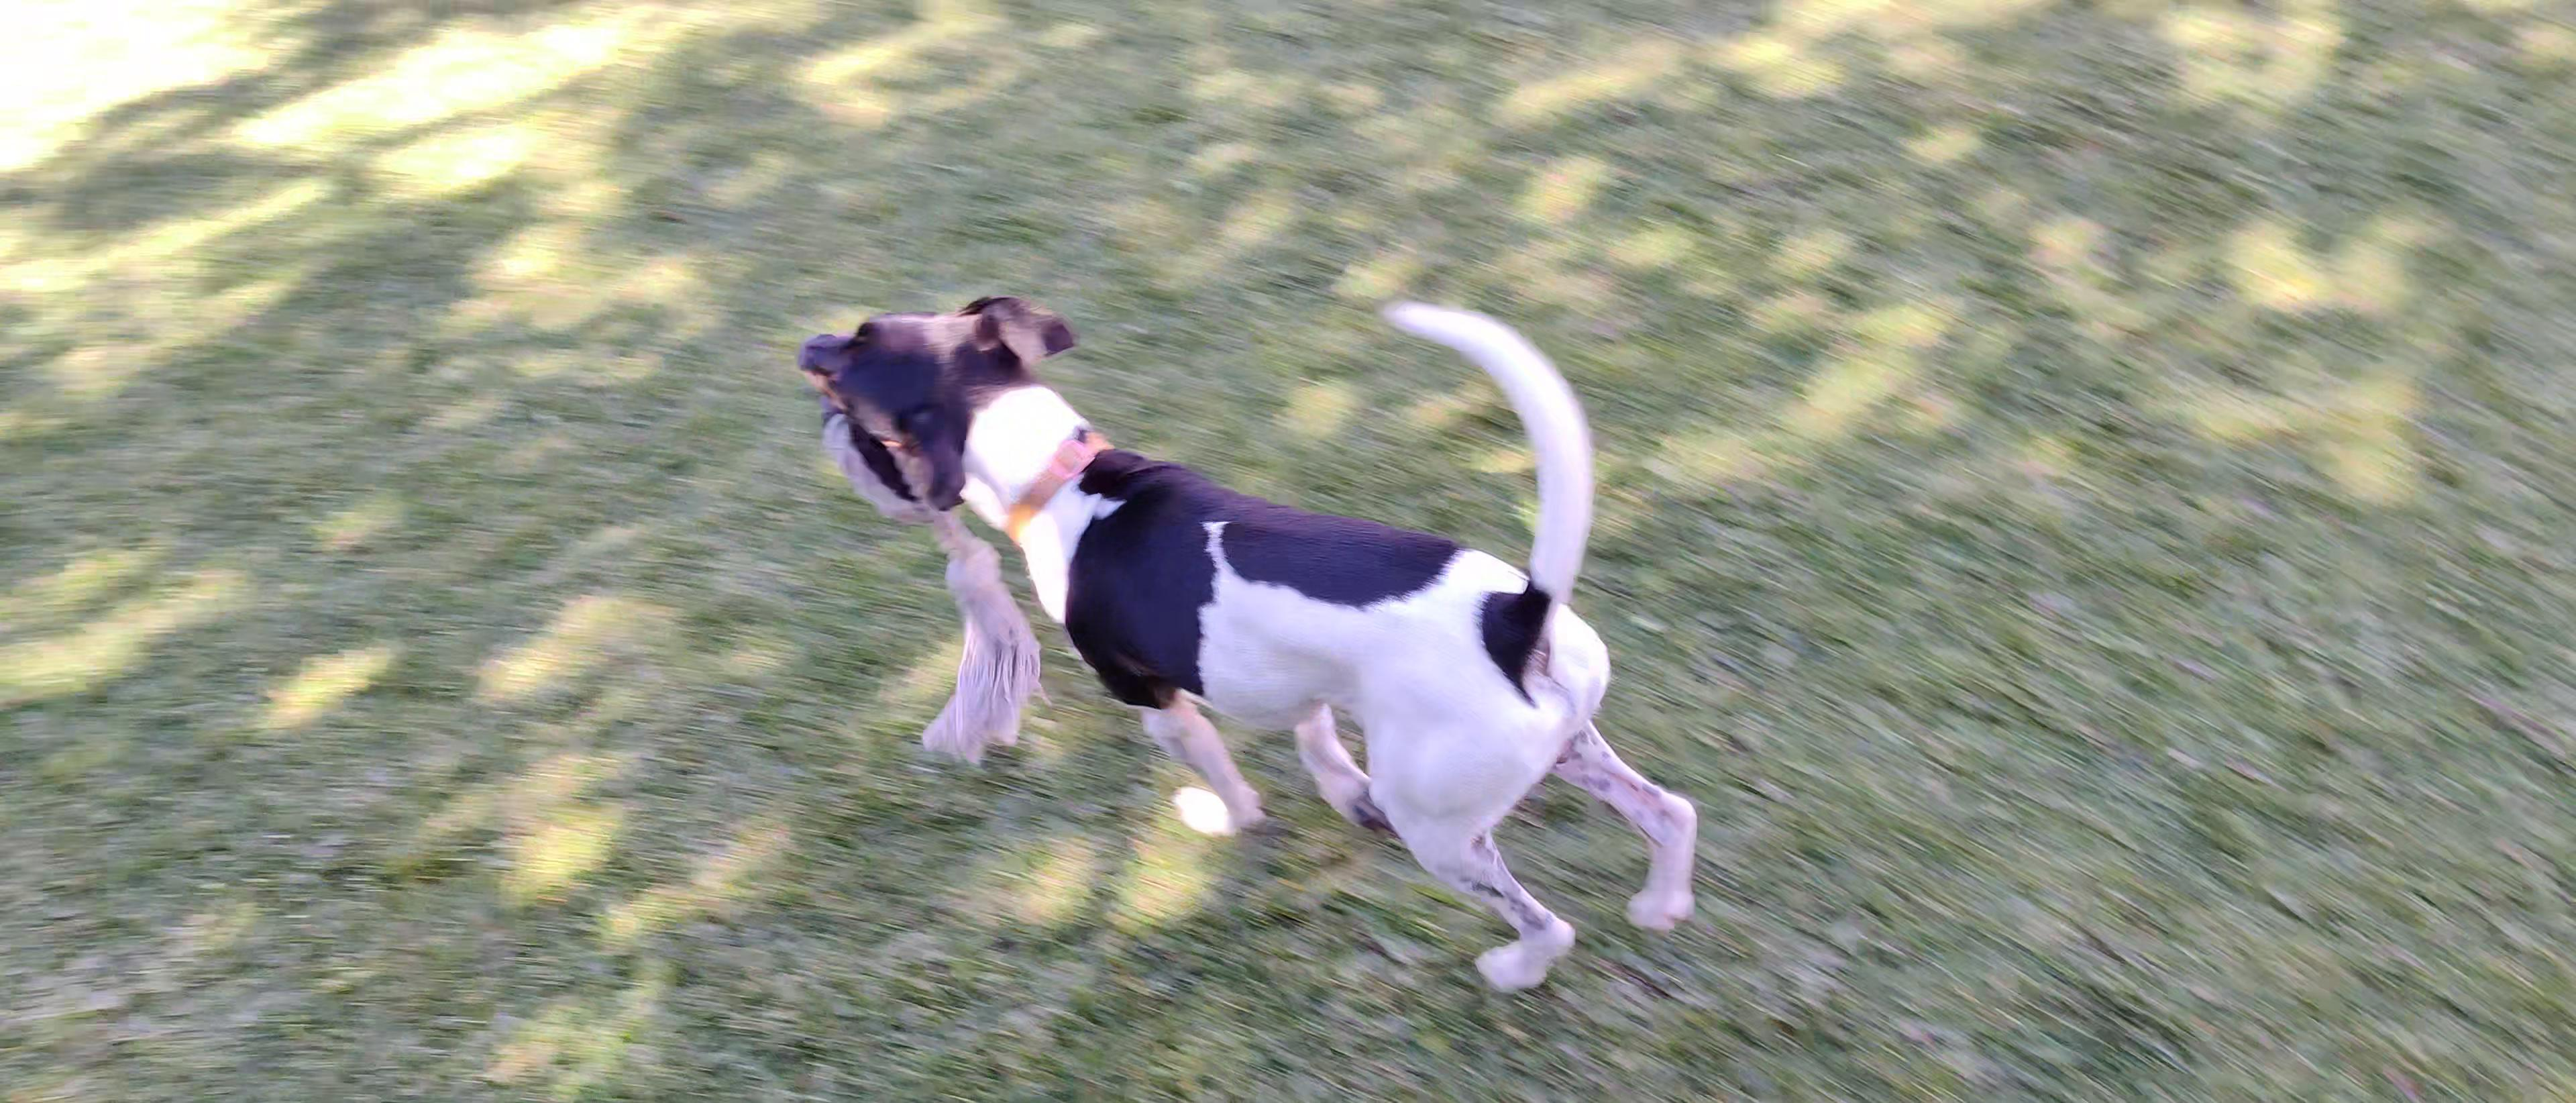Dog: (779, 230, 1718, 1016)
